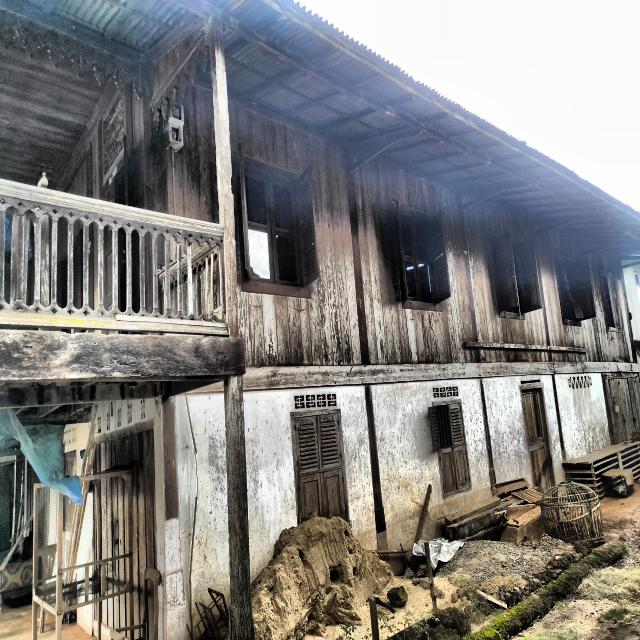door: (519, 379, 555, 493)
ornamen: (0, 179, 229, 339)
roof: (5, 2, 639, 255)
wall: (35, 101, 639, 640)
window: (235, 145, 320, 298), (290, 409, 350, 527), (394, 202, 451, 311), (489, 232, 542, 320), (429, 400, 471, 499), (554, 254, 596, 327), (599, 272, 621, 333)
